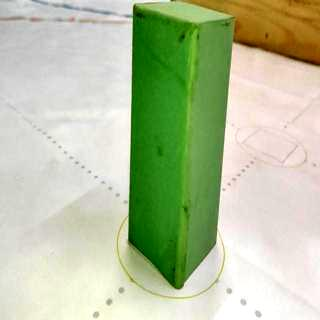greenbox: (131, 2, 222, 288)
